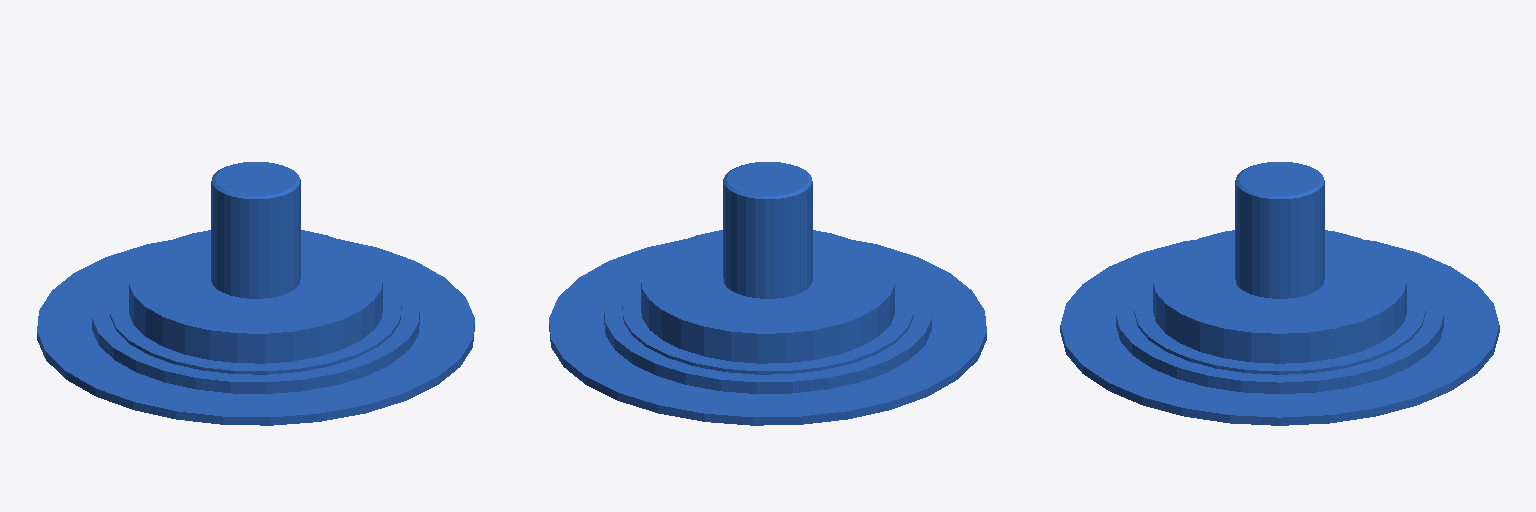
The model's file is CorkBase.obj.
3 views of the same model, side by side, from view 1: azimuth 30°, elevation 25°; view 2: azimuth 150°, elevation 25°; view 3: azimuth 270°, elevation 25° (orthographic).
Visible parts, largest first — view 1: Circle510; view 2: Circle510; view 3: Circle510.
Boxes of the visible parts, box(x1,y1,x2,y2) form: Circle510: box(37, 162, 474, 425); Circle510: box(549, 162, 986, 425); Circle510: box(1060, 162, 1499, 425).
Bounding box in the file's own units: 24 × 9.3 × 24.